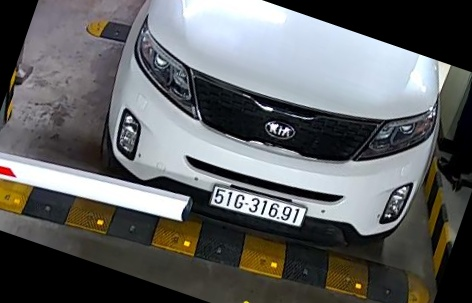plate: (203, 181, 312, 236)
